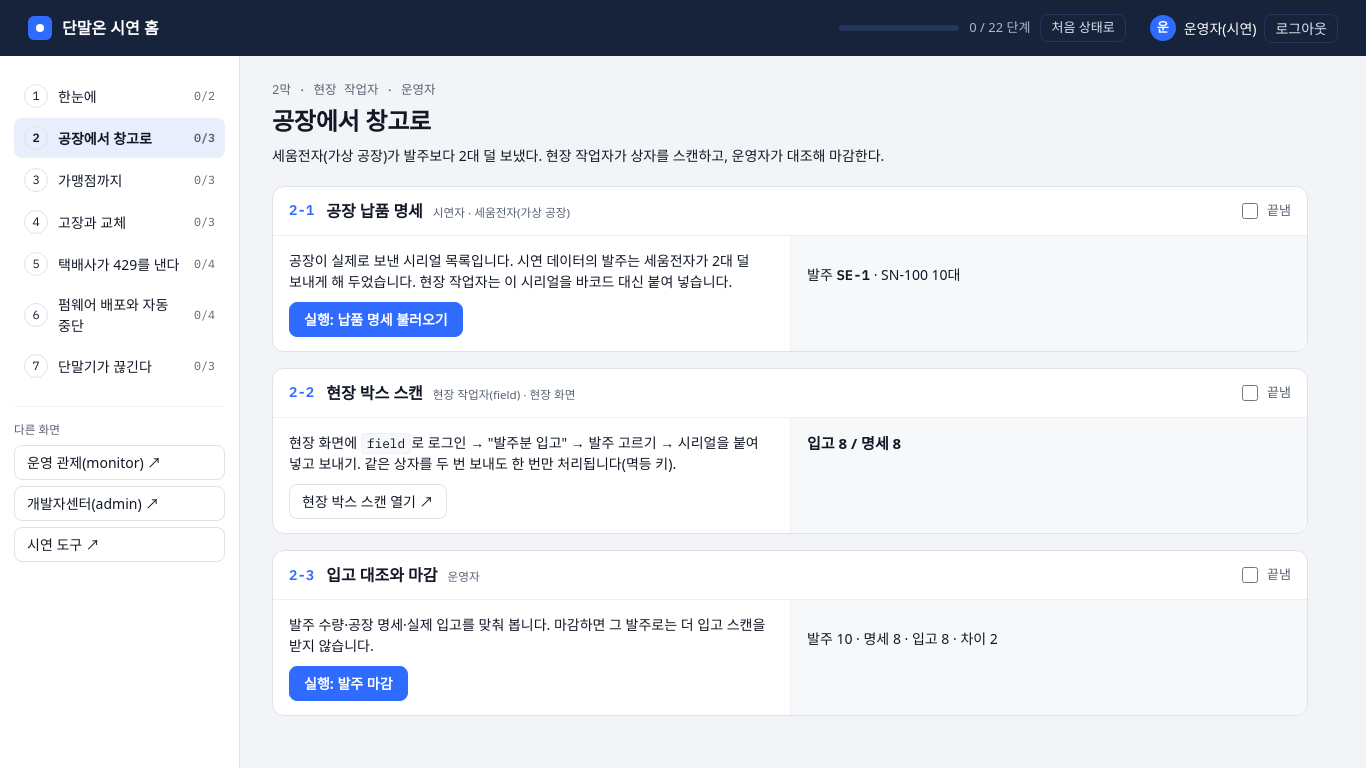
Test: 막 2 공장에서 창고로 › 마감하면 그 발주의 대조가 그대로 남는다(열린 발주가 없어져도 — 리허설에서 찾음)
Click the button "실행: 발주 마감": (348, 684) [289, 666, 408, 701]
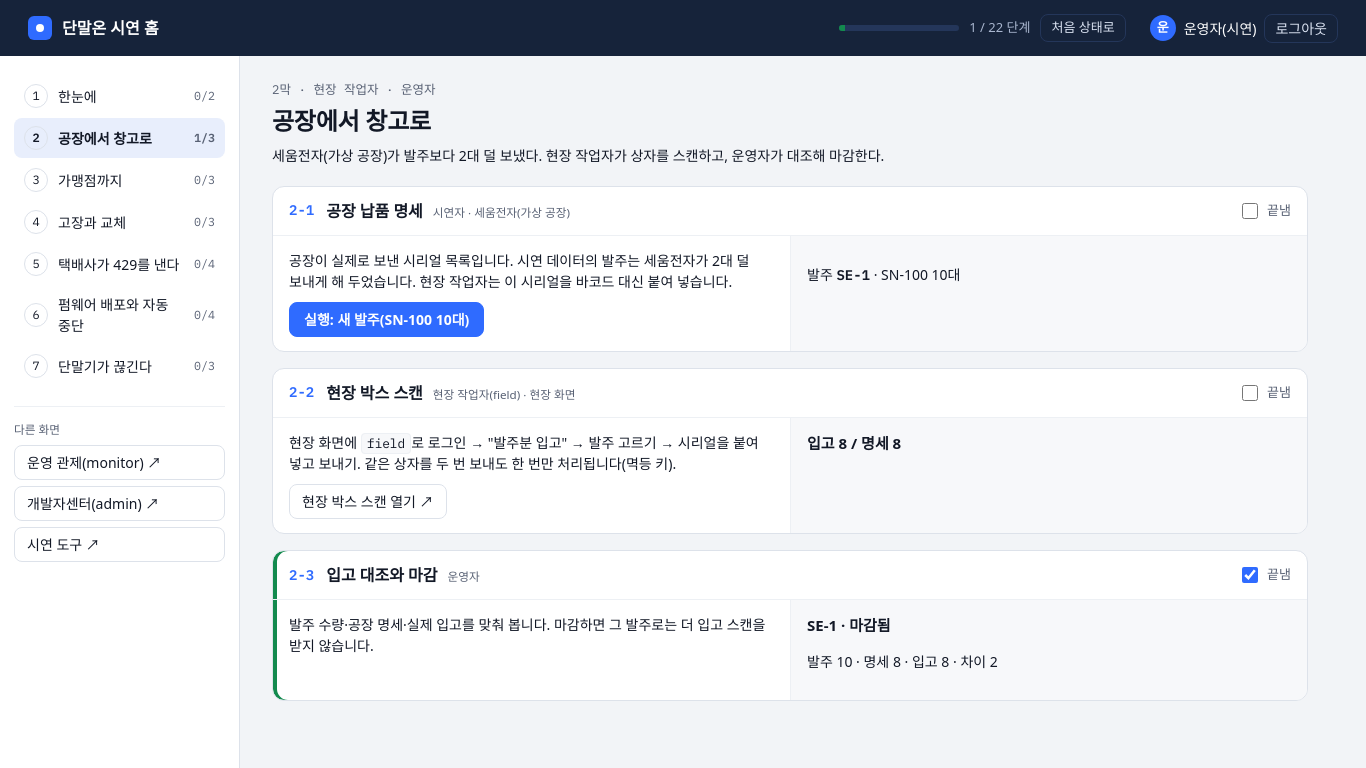
Expected: the text "발주 10 · 명세 8 · 입고 8 · 차이 2" is shown, [807, 652, 998, 671]
Result: the text "SE-1 · 마감됨" is shown at [807, 615, 891, 635]
